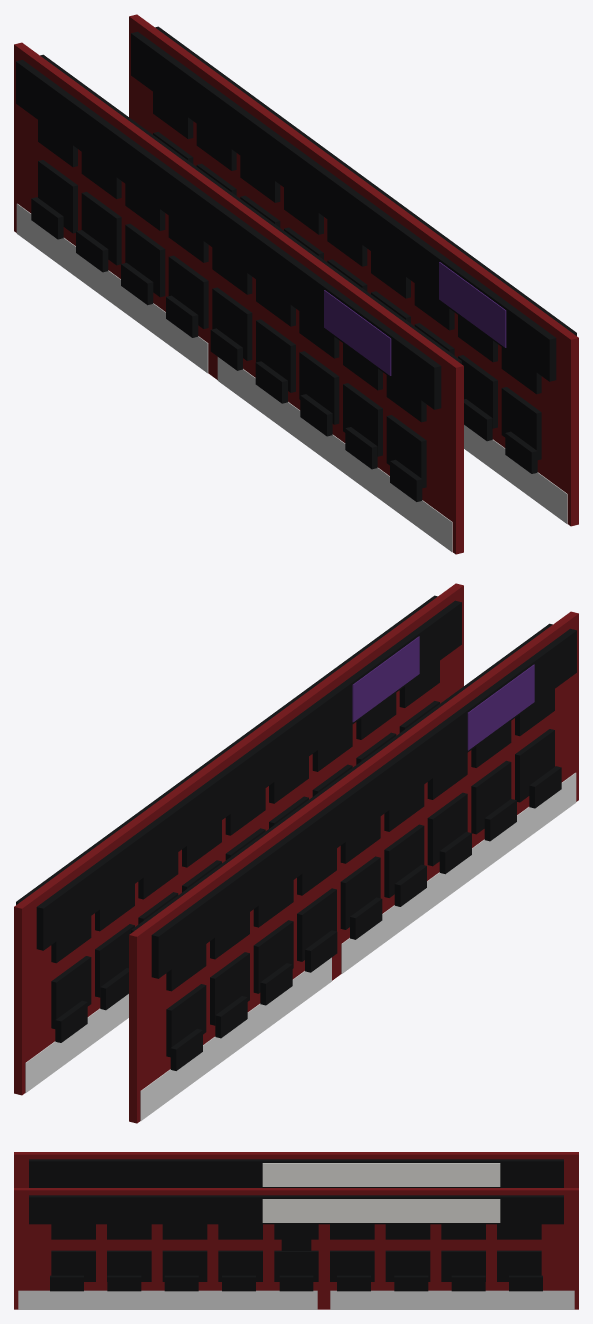
The model's file is hw_ram_ddr5_192gb.glb.
The picture shows the model from 3 angles, top to bottom: view 1: azimuth 30°, elevation 25°; view 2: azimuth 150°, elevation 25°; view 3: azimuth 270°, elevation 25°; orthographic projection. The views are drawn at different scales.
Parts seen in each view (by area): view 1: Stick_1, Body; view 2: Stick_1, Body; view 3: Body, Stick_1.
Boxes of the visible parts, x1=… form: Stick_1: x1=14, y1=42, x2=463, y2=554; Body: x1=129, y1=14, x2=578, y2=526; Stick_1: x1=129, y1=611, x2=578, y2=1123; Body: x1=14, y1=583, x2=463, y2=1095; Body: x1=14, y1=1188, x2=578, y2=1309; Stick_1: x1=14, y1=1152, x2=578, y2=1187.
Bounding box in the file's own units: 0.0252 × 0.031 × 0.133.
